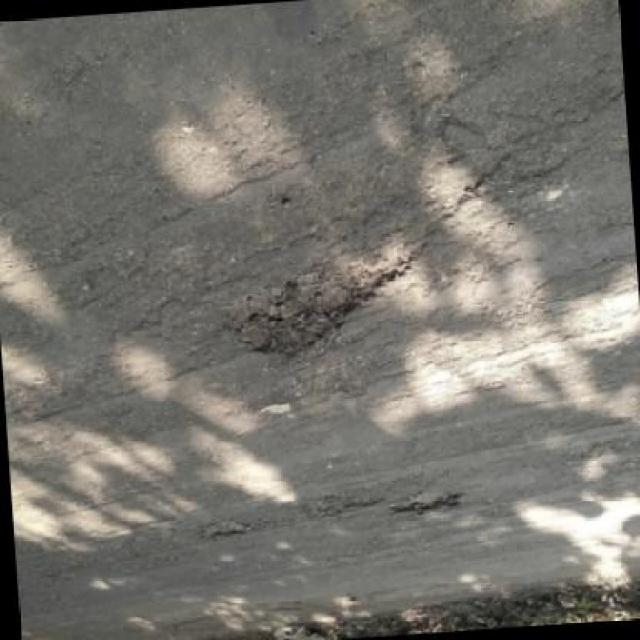pothole1: (217, 243, 423, 363), (387, 485, 465, 520), (192, 519, 256, 543)
